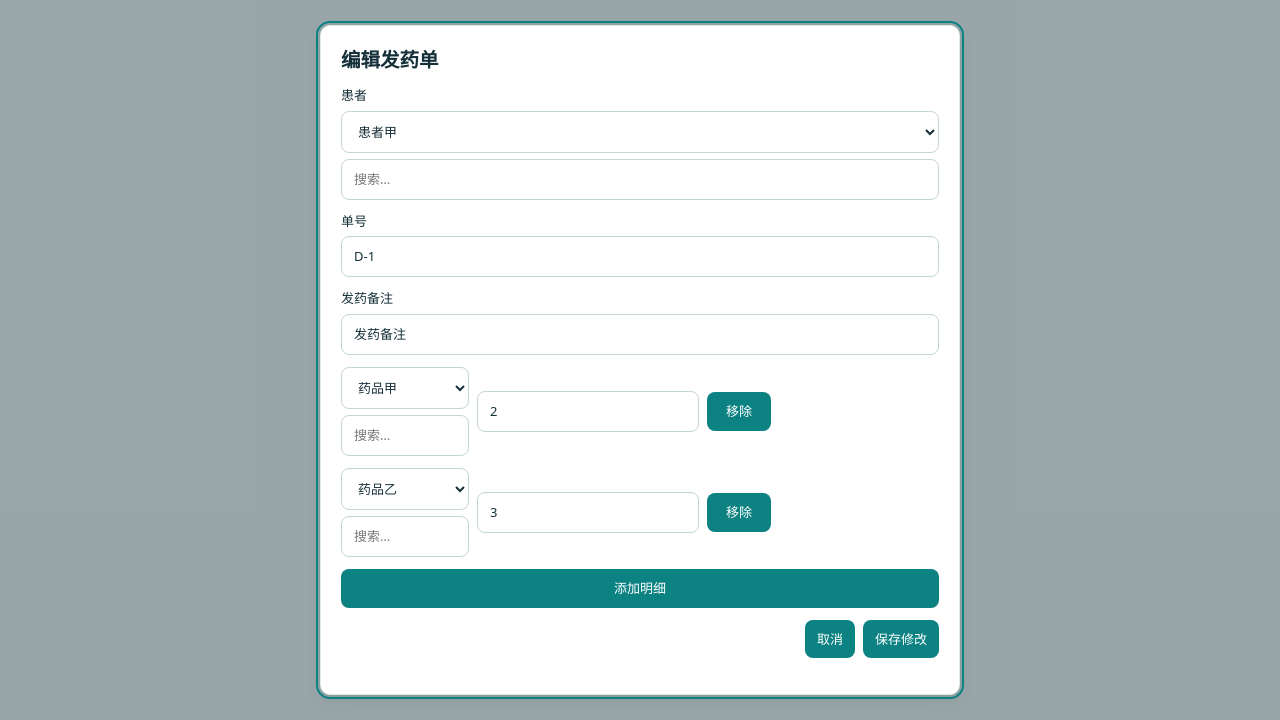
Scenario: DispenseEditDialog › reports update failures as a toast
Click the button "保存修改" at (901, 639), box left=863, top=620, right=939, bottom=658
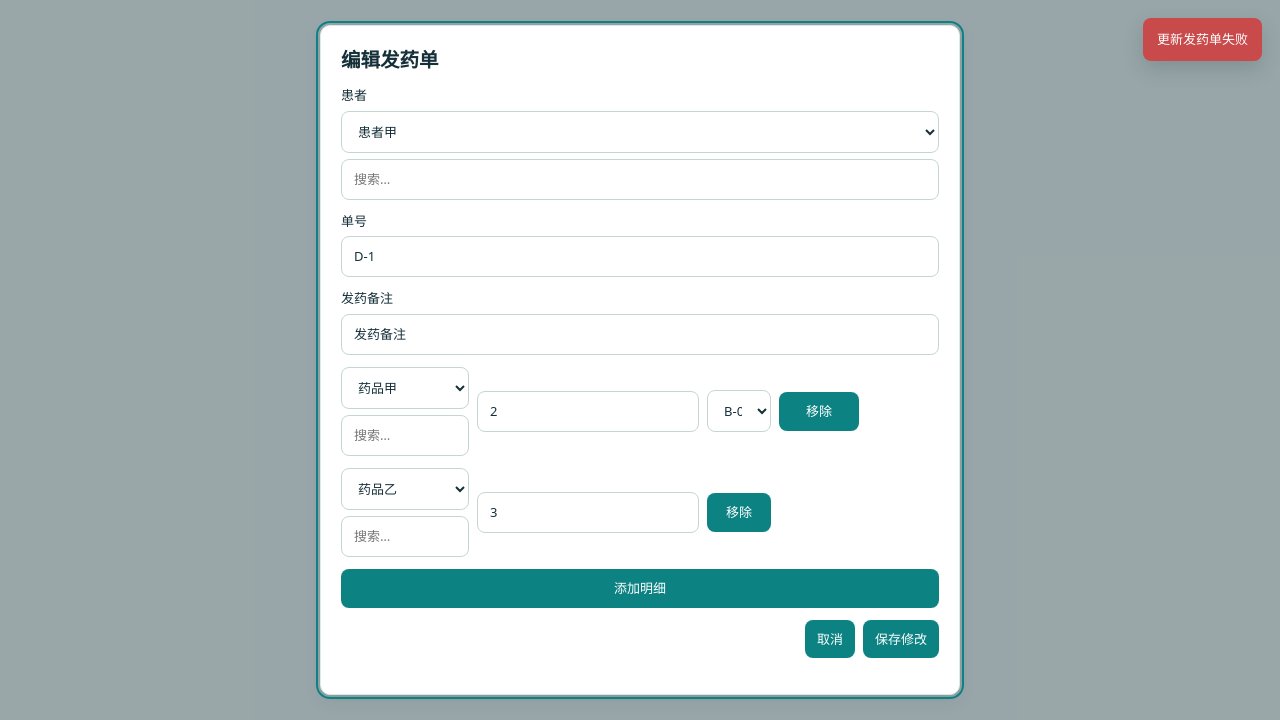
Now the text "更新发药单失败" is shown, box left=1143, top=18, right=1262, bottom=61
